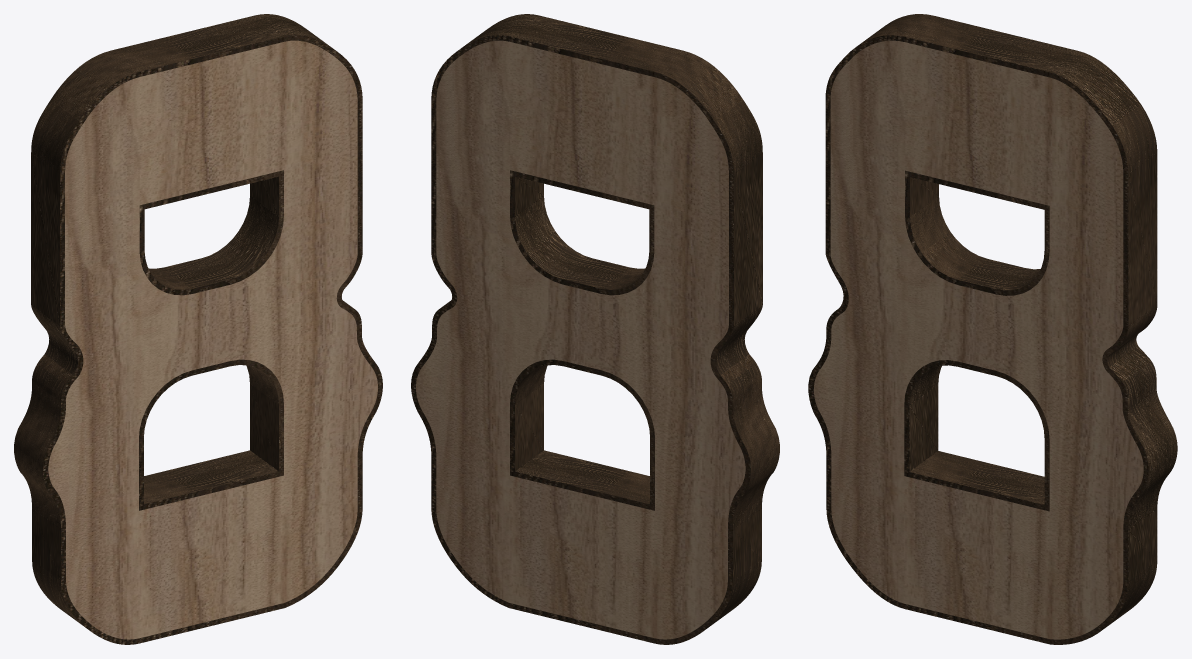
3 views of the same model, side by side, from view 1: azimuth 30°, elevation 25°; view 2: azimuth 150°, elevation 25°; view 3: azimuth 330°, elevation 25° (orthographic).
Visible parts, largest first — view 1: 8, 8_outline; view 2: 8, 8_outline; view 3: 8, 8_outline.
Part boxes in pixels (x1,y1,x2,y2): 8: [48, 40, 377, 639]; 8_outline: [14, 14, 382, 644]; 8: [416, 40, 745, 639]; 8_outline: [411, 14, 779, 644]; 8: [814, 40, 1143, 639]; 8_outline: [808, 14, 1177, 644].
Size of the model in its own units: 67.82 by 109 by 10.
2 materials, 2 textured.
